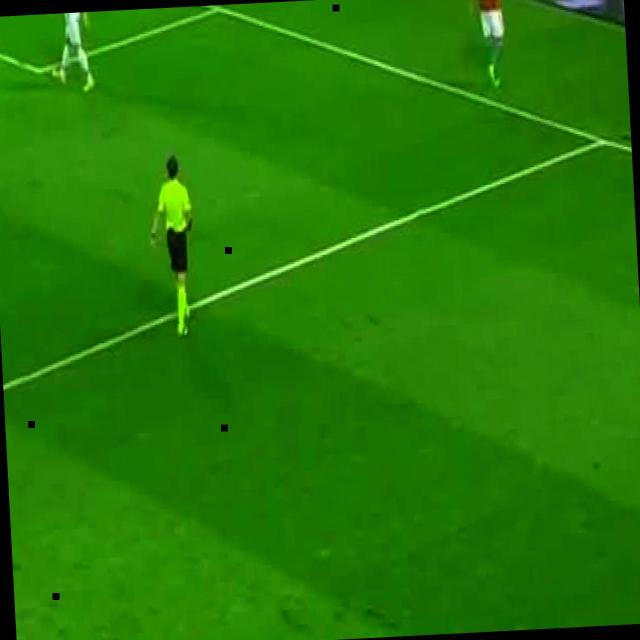player-white: (147, 155, 199, 337), (49, 12, 97, 94), (474, 0, 511, 90)
